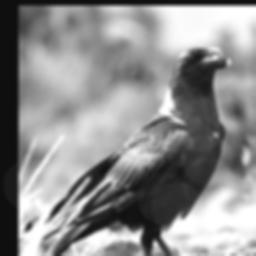Crow: (42, 41, 237, 256)
